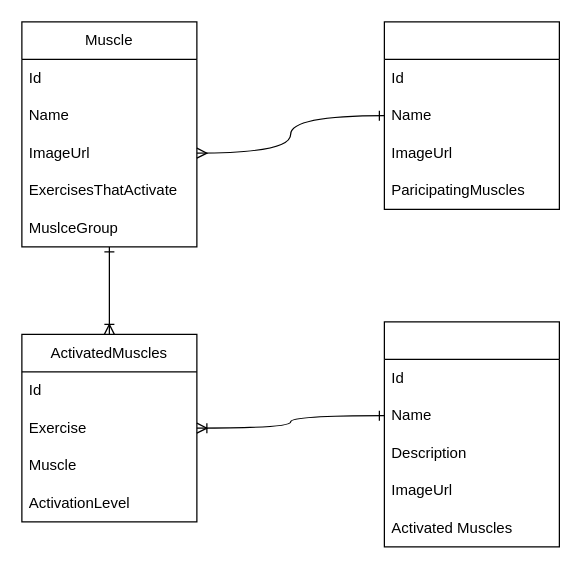
The diagram is 581 pixels wide and 569 high, and some of its shapes have lost their labels. The shapes that lost their labels are listed below. From the top down, each one's box as (x1, y1, x2, y2) in pixels, then its label:
(383, 21, 559, 209): Muscle group
(383, 321, 559, 547): Exercises
